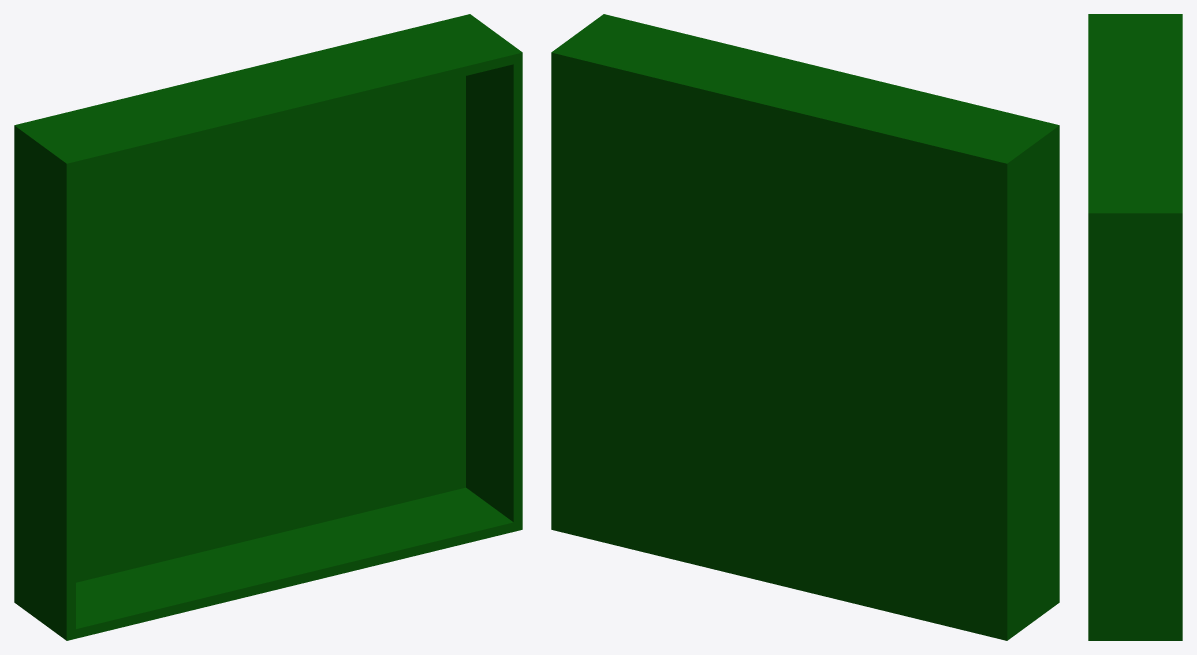
Rendered from bin.obj.
3 renders of one model, left to right at view 1: azimuth 30°, elevation 25°; view 2: azimuth 150°, elevation 25°; view 3: azimuth 270°, elevation 25°, orthographic. The views are drawn at different scales.
Parts seen in each view (by area): view 1: Cube; view 2: Cube; view 3: Cube.
Part boxes in pixels (x1,y1,x2,y2): Cube: [14, 14, 522, 640]; Cube: [551, 14, 1059, 640]; Cube: [1088, 14, 1182, 640].
Bounding box in the file's own units: 1.4 × 1.4 × 0.28.
